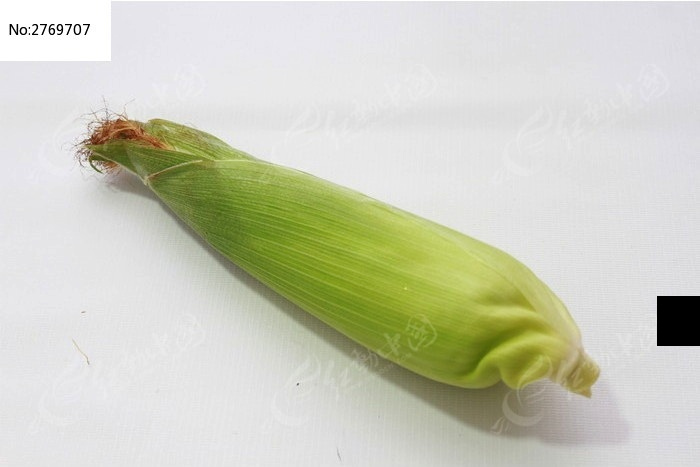corn_plant: (72, 97, 612, 408)
